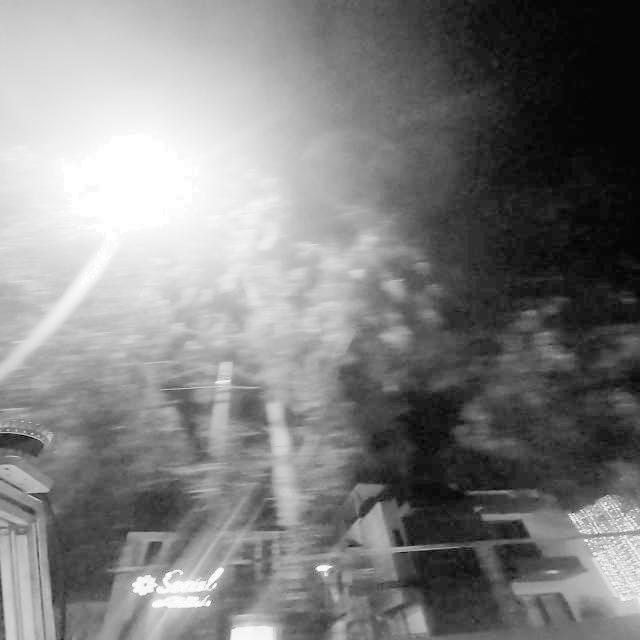Light: (55, 124, 223, 245)
